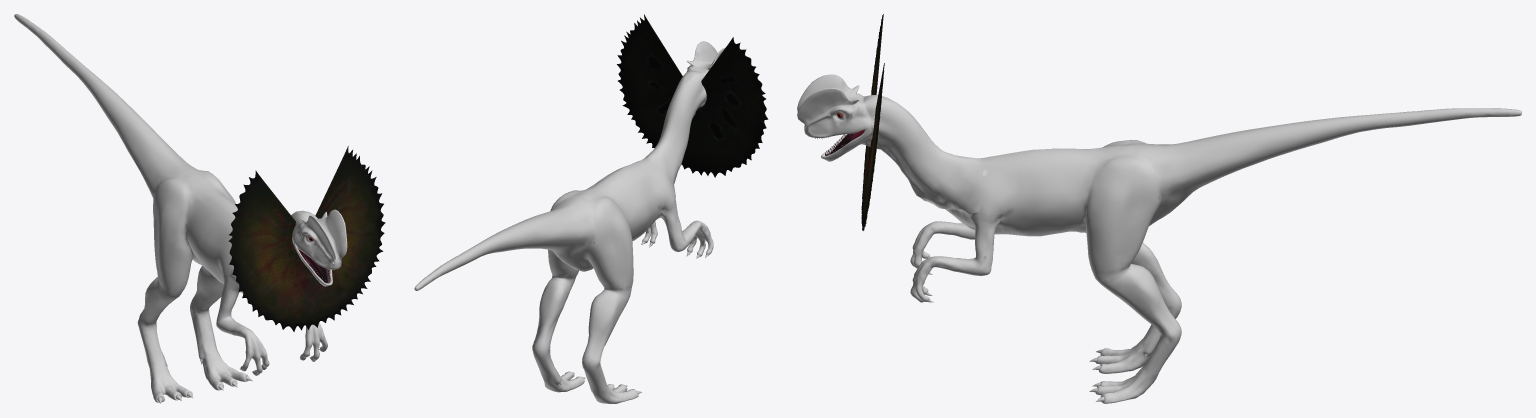
The model's file is Dino3.obj.
3 views of the same model, side by side, from view 1: azimuth 30°, elevation 25°; view 2: azimuth 150°, elevation 25°; view 3: azimuth 270°, elevation 25° (orthographic). The views are drawn at different scales.
Visible parts, largest first — view 1: Main_Mesh, Cylinder01; view 2: Main_Mesh, Cylinder01; view 3: Main_Mesh, Cylinder01.
Boxes of the visible parts, x1,y1,x2,y2 form: Main_Mesh: [14, 14, 347, 402]; Cylinder01: [228, 146, 385, 331]; Main_Mesh: [414, 41, 725, 403]; Cylinder01: [617, 14, 768, 177]; Main_Mesh: [797, 74, 1521, 403]; Cylinder01: [861, 14, 884, 230].
Bounding box in the file's own units: 24.12 × 45.21 × 86.44.
